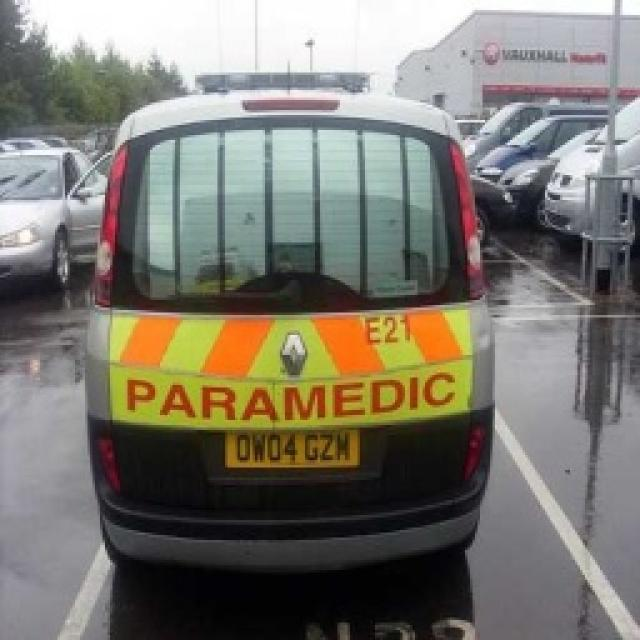emergency-vehicle: (81, 74, 495, 596)
